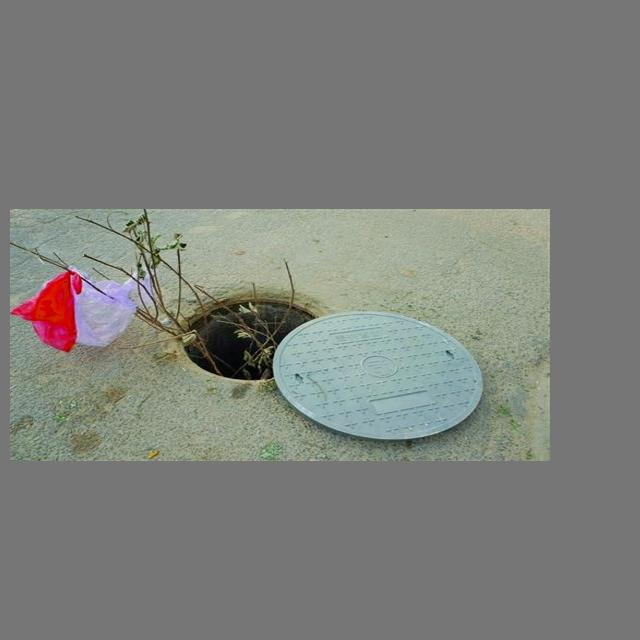uncovered: (144, 283, 488, 439)
